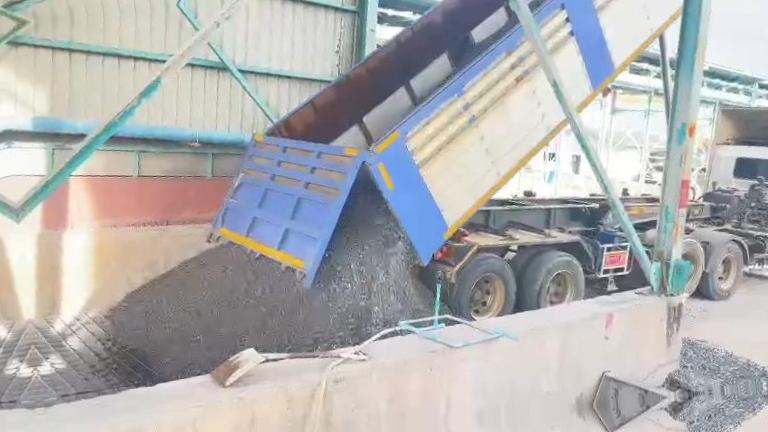gravel: (106, 184, 433, 381), (669, 338, 768, 392)
